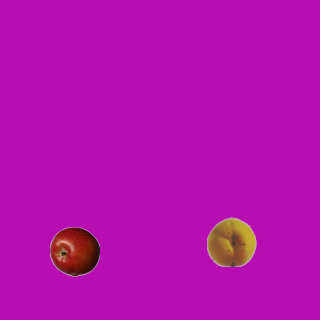Apple Braeburn: (49, 226, 99, 276)
Peach 2: (206, 216, 256, 266)
